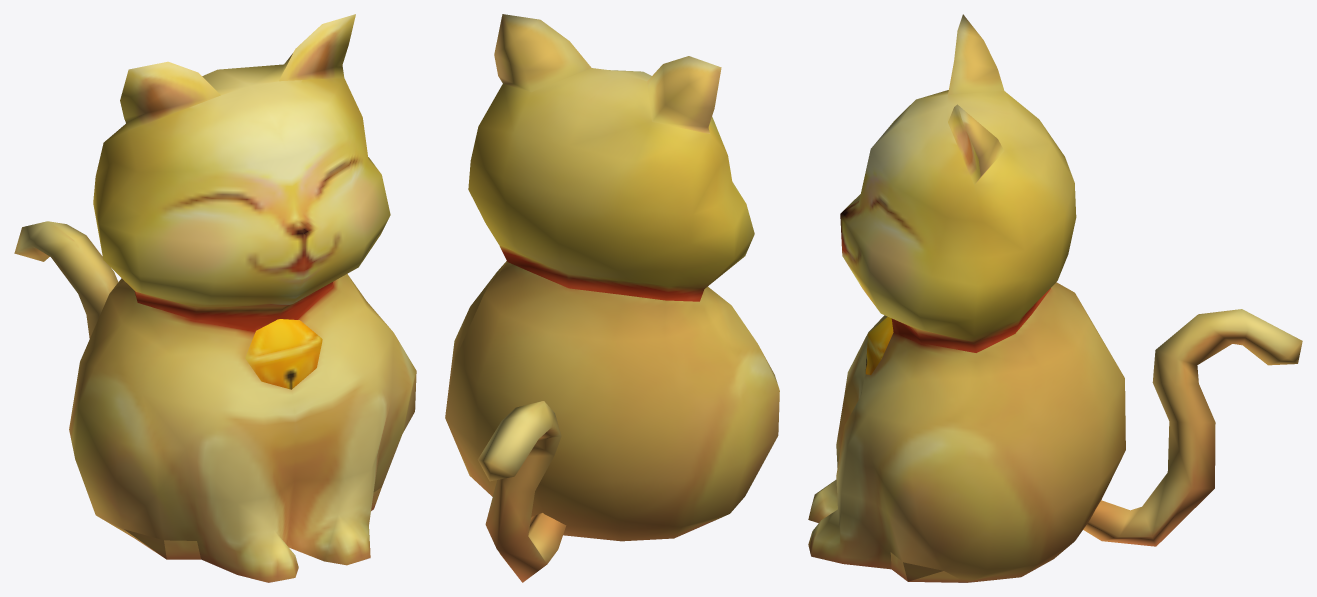
The model's file is Level01-maomi.FBX.
3 views of the same model, side by side, from view 1: azimuth 30°, elevation 25°; view 2: azimuth 150°, elevation 25°; view 3: azimuth 270°, elevation 25° (orthographic). The views are drawn at different scales.
Visible parts, largest first — view 1: Level01-maomi; view 2: Level01-maomi; view 3: Level01-maomi.
Part boxes in pixels (x1,y1,x2,y2): Level01-maomi: (14,14,416,582); Level01-maomi: (445,14,779,582); Level01-maomi: (808,14,1302,582).
Size of the model in its own units: 0.5103 by 0.726 by 0.7806.
